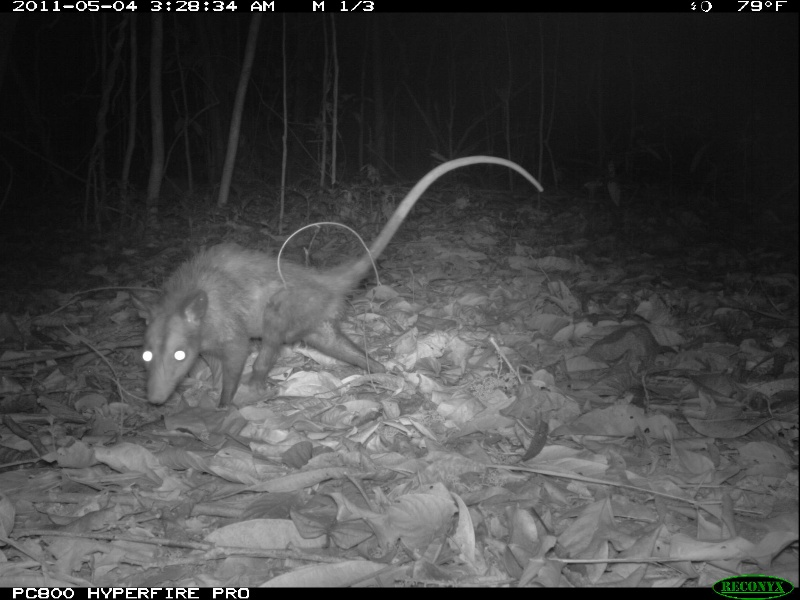opossum: (132, 156, 544, 413)
